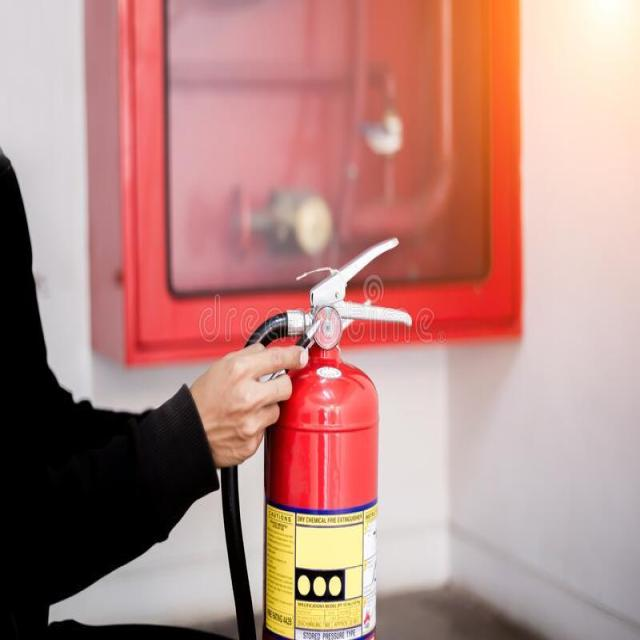fire_extinguisher: (210, 232, 414, 638)
